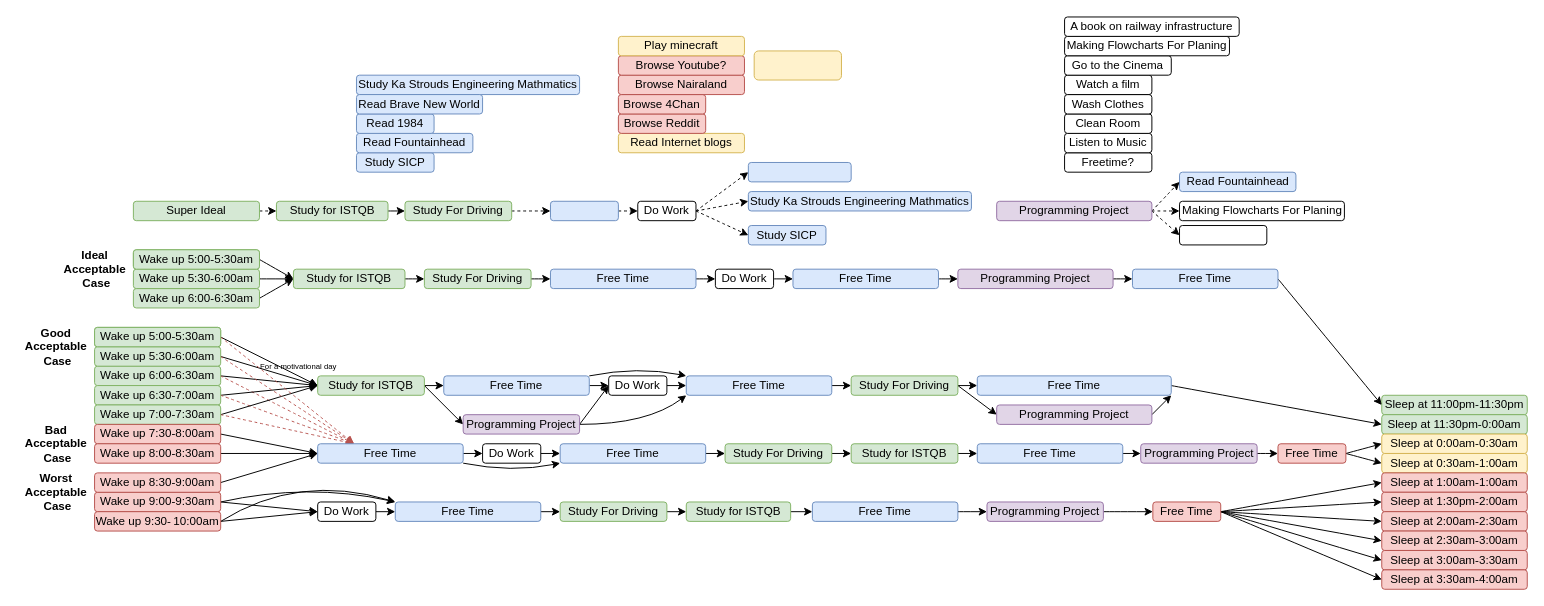
Some shapes in this 1544 by 606 pixel diagram are drawn without their labels. The shapes that lost their labels are listed below. From the top down, each one's centre as x and y in pixels, then its label:
At (x=797, y=65): "The Good Side of Youtube".
At (x=799, y=172): "Drawing Analysis".
At (x=584, y=210): "Read Akira".
At (x=1223, y=235): "Read The Sluts".
